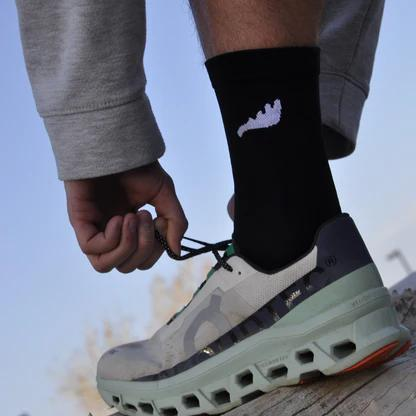OC_logo: (155, 281, 269, 378)
sock logo: (206, 42, 341, 260)
